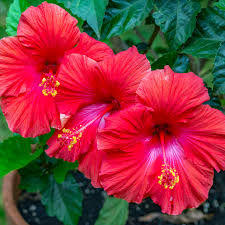hybiscus: (101, 71, 224, 216)
